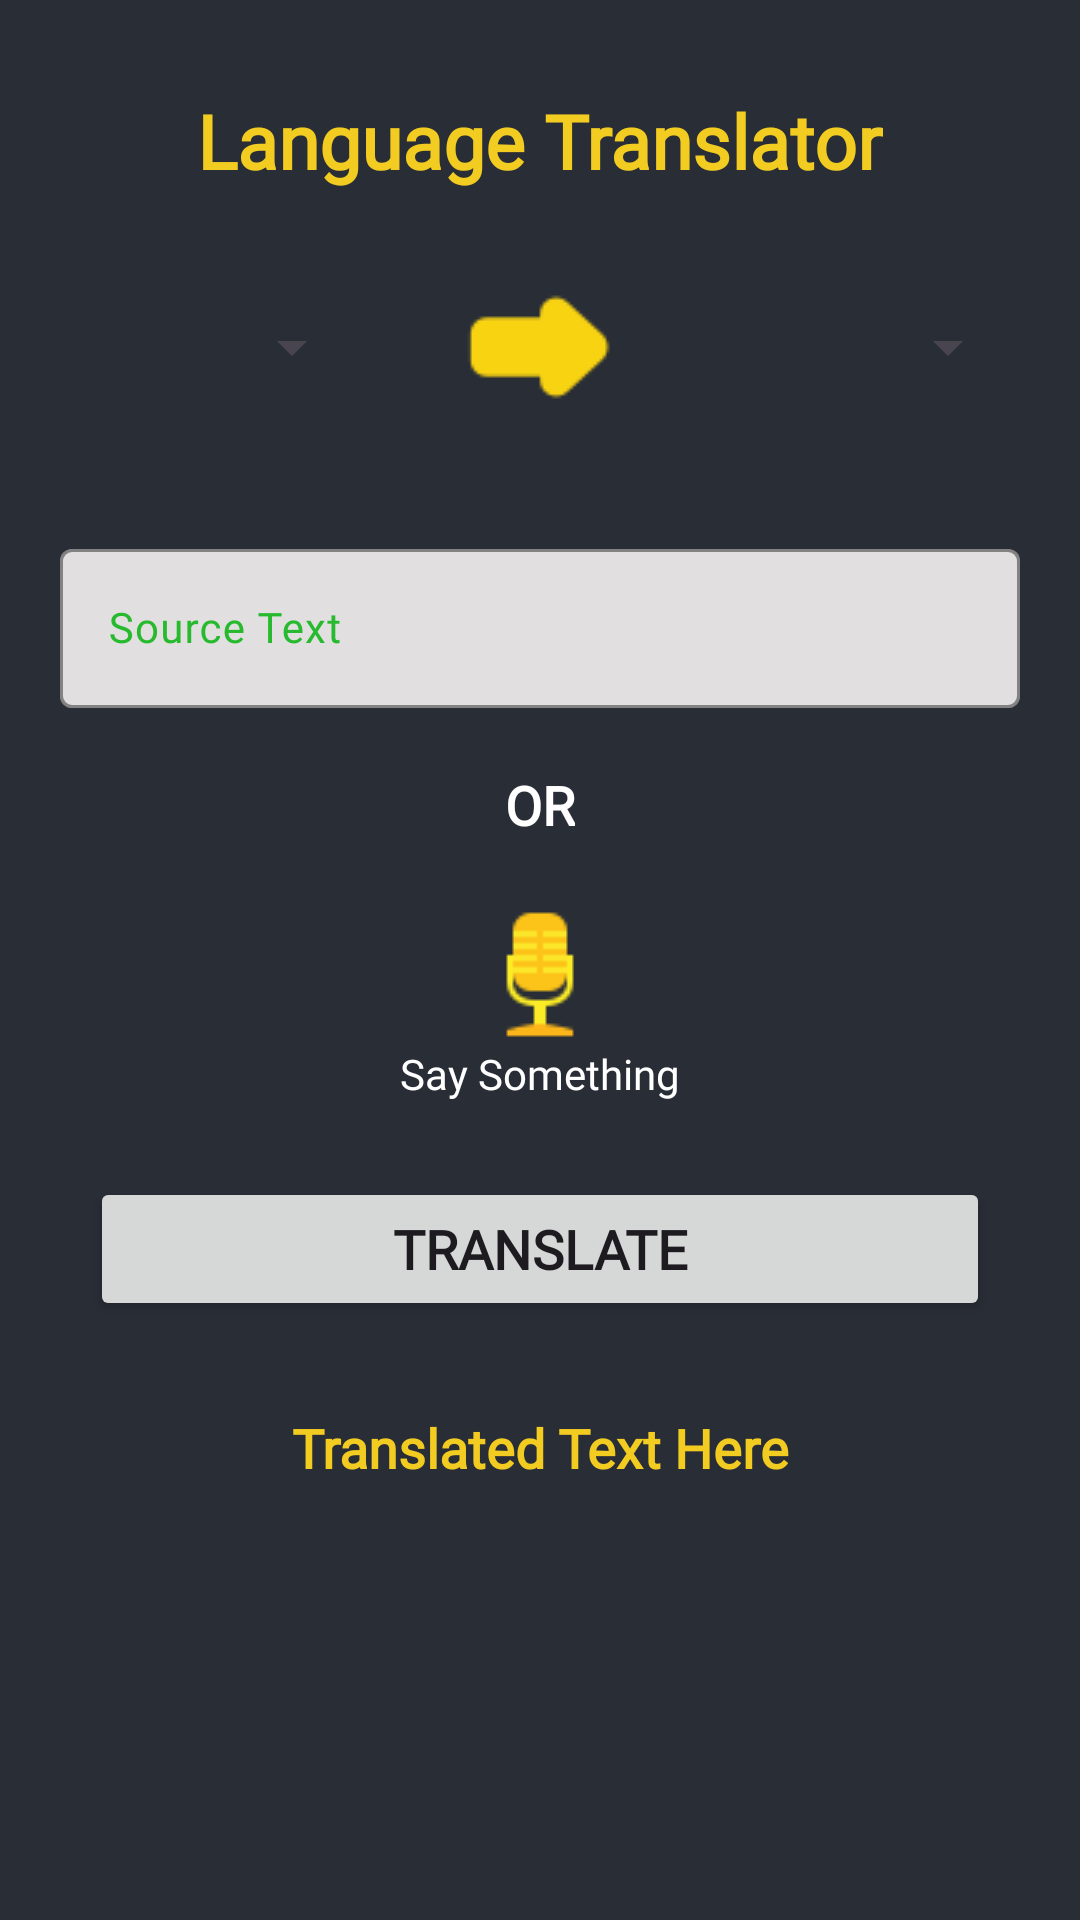

Named icons in this screenshot (1080px×1920px) and their bounding boxes, (x1, y1, x2, y2):
arrow: (470, 295, 610, 399)
mic: (506, 912, 574, 1037)
